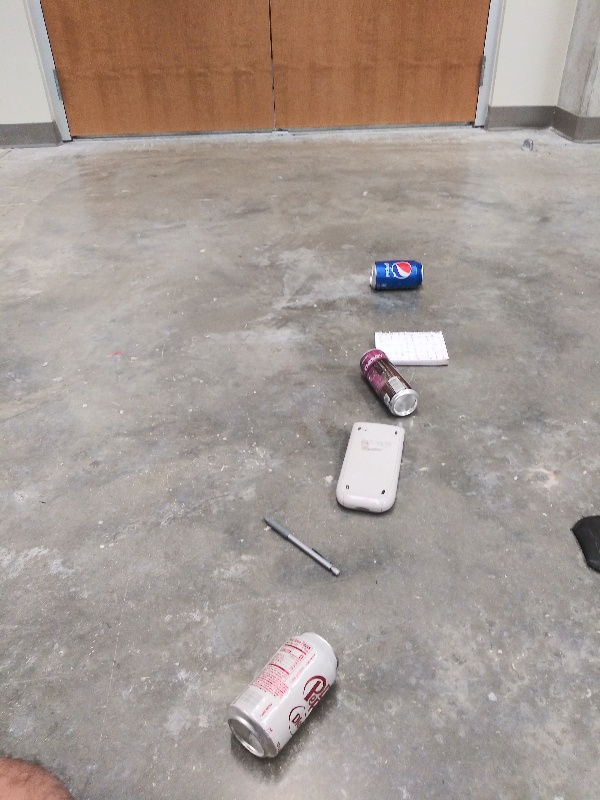can: (220, 629, 344, 760), (347, 344, 420, 420), (367, 257, 425, 291)
